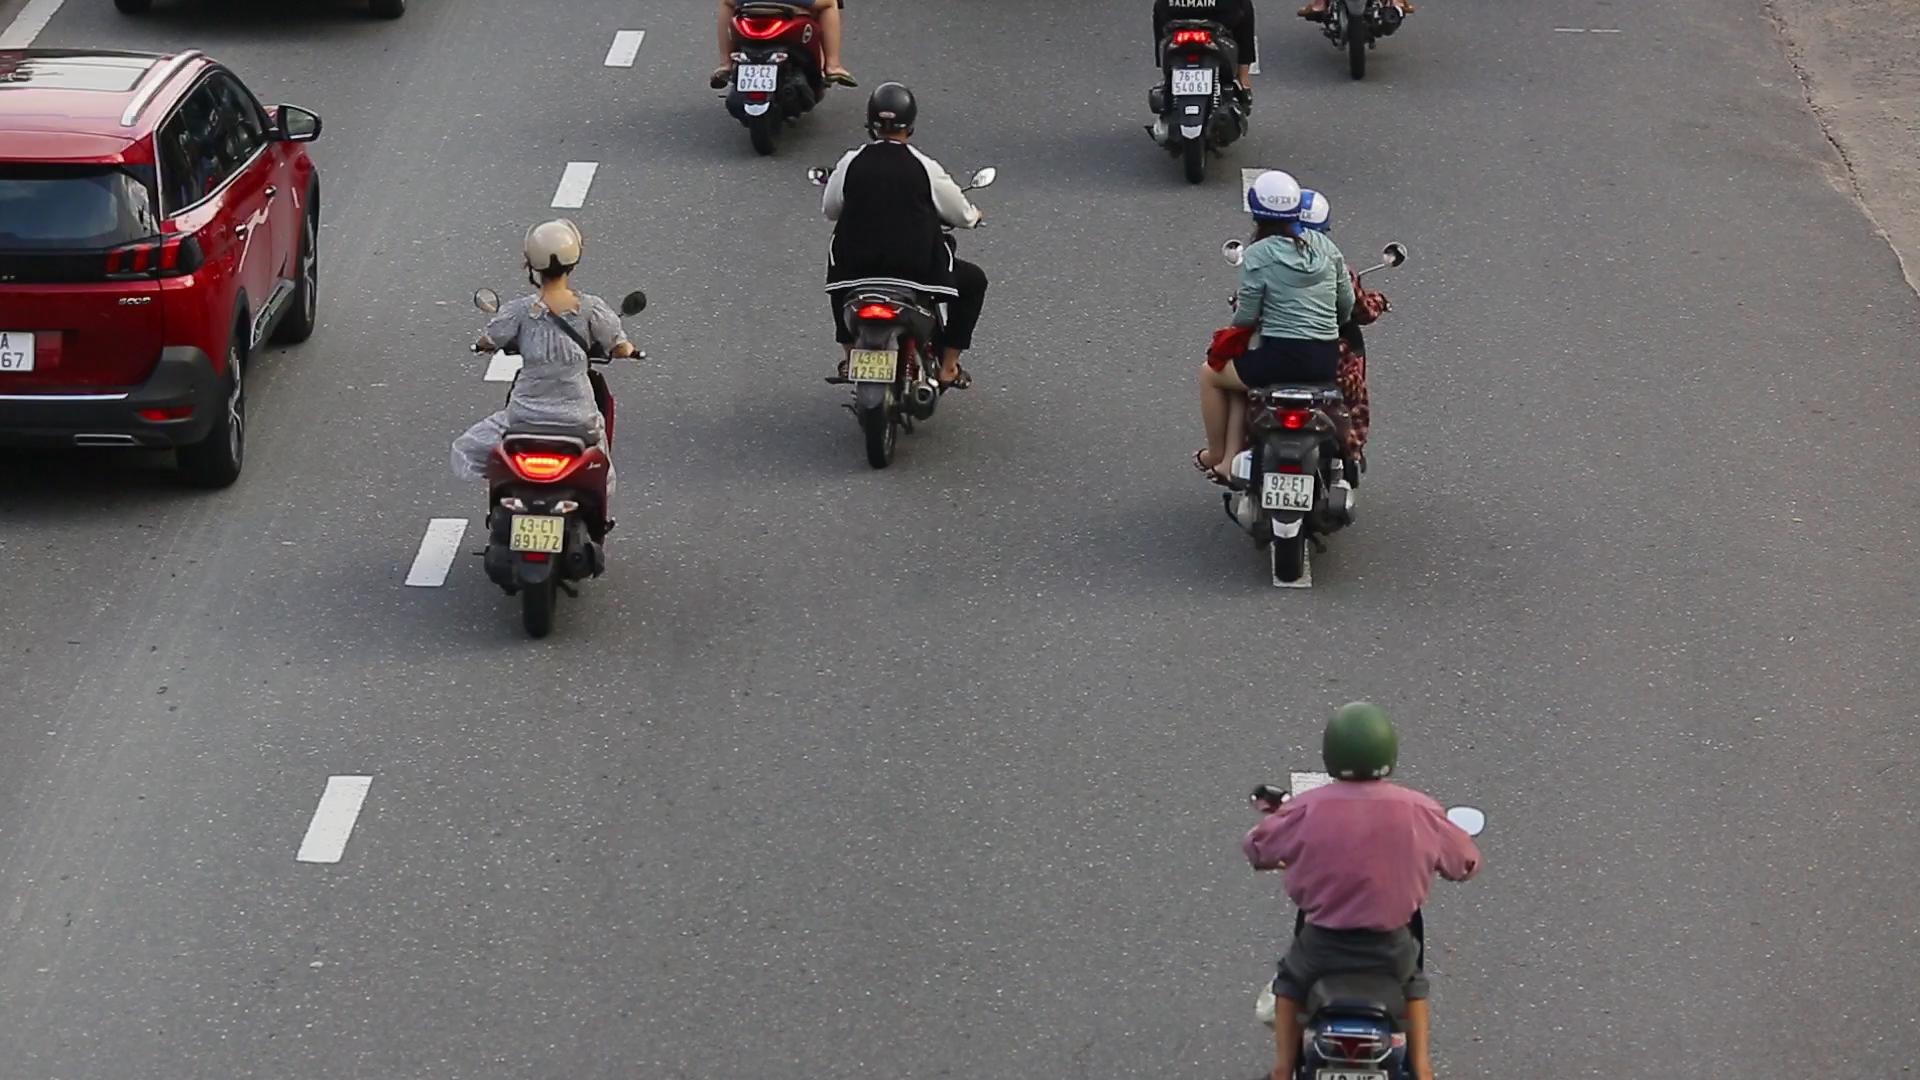motobike: (1192, 162, 1419, 589), (465, 219, 665, 645), (799, 78, 996, 477)
